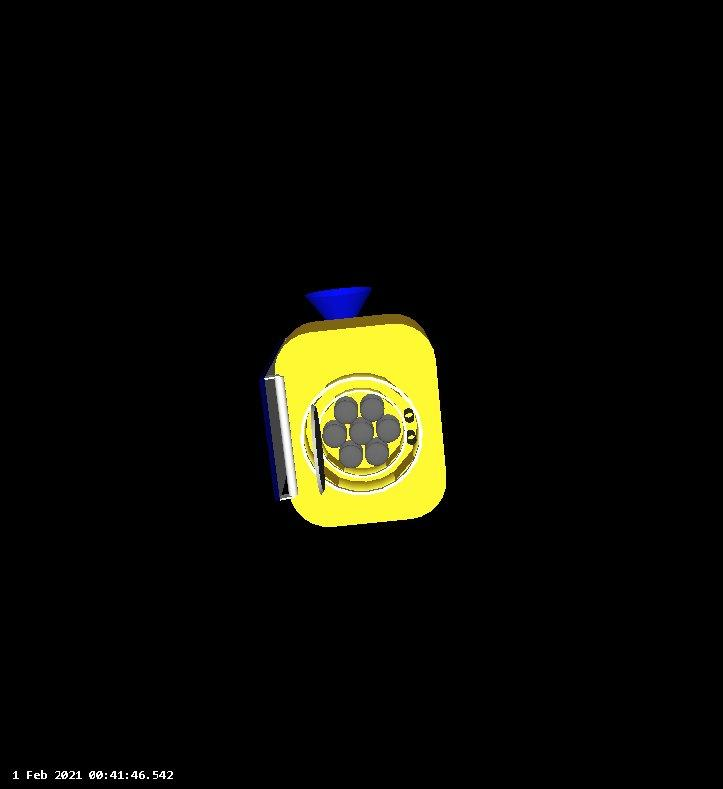antenna: (308, 406, 331, 493), (360, 394, 386, 424), (333, 399, 360, 425), (365, 440, 390, 468), (377, 418, 403, 444), (349, 419, 376, 444), (339, 444, 363, 469), (324, 423, 347, 449)
body: (274, 313, 450, 525)
solar: (260, 359, 290, 502)
thruster: (304, 283, 376, 320)
